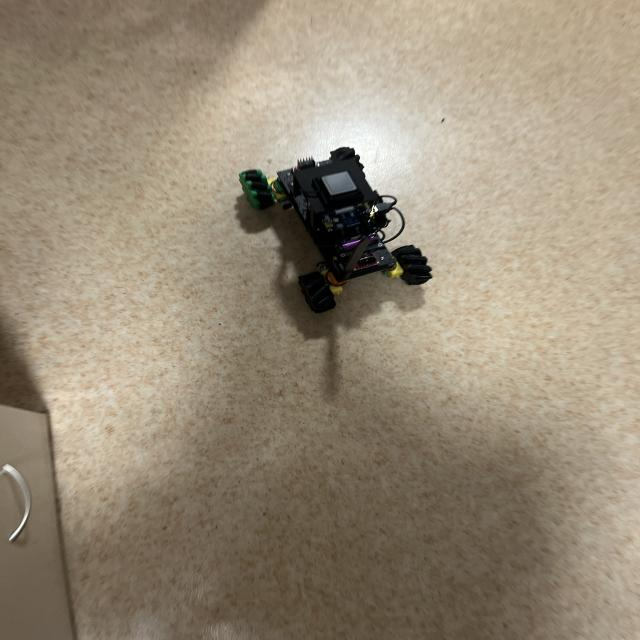robot: (239, 147, 431, 313)
